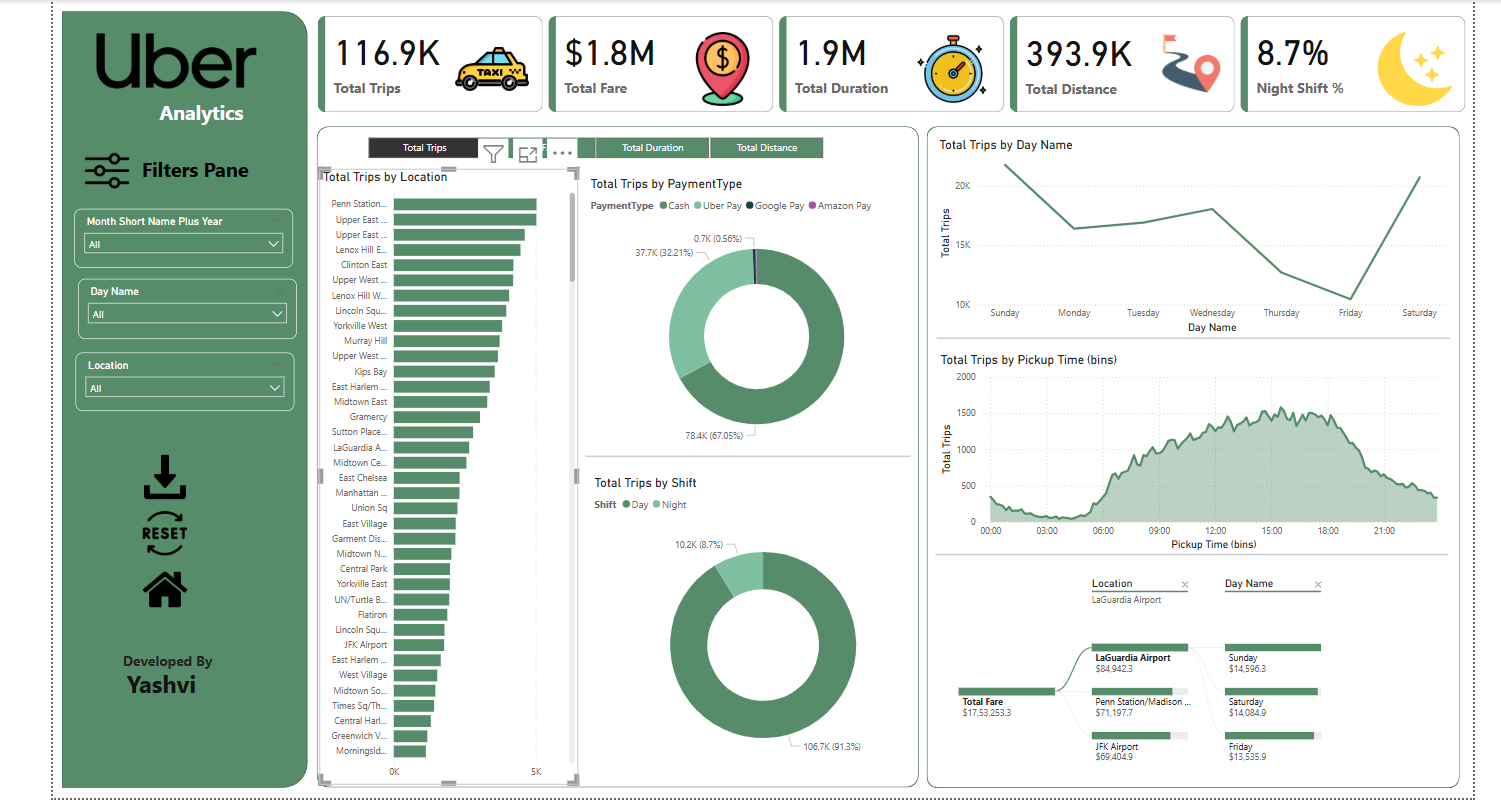

This screenshot's page, from the dashboard's own definition file:
{"tool":"powerbi","page":{"name":"Page 1","canvas":[1920,1080],"ordinal":0},"visuals":[{"type":"shape","box":[719.9,581.6,439.6,71.4],"z":0},{"type":"shape","box":[356.2,171,814.2,894.2],"z":1000},{"type":"shape","box":[11.3,15.8,332.4,1050.1],"z":2000},{"type":"image","box":[49.7,20.3,232.6,125.1],"z":3000},{"type":"textbox","box":[139.1,128.7,169.4,56.5],"z":4000},{"type":"image","box":[28.9,196.5,88,70],"z":5000},{"type":"textbox","box":[114.7,206.4,169.4,56.5],"z":6000},{"type":"slicer","fields":{"Values":["DateTable.Month Short Name Plus Year"]},"box":[29.4,282.3,295.8,80.4],"z":7000},{"type":"slicer","fields":{"Values":["DateTable.Day Name"]},"box":[33,376.2,295.8,81.3],"z":8000},{"type":"slicer","fields":{"Values":["Location Table.Location"]},"box":[30.3,476.1,295.8,79],"z":9000},{"type":"cardVisual","fields":{"Data":["Trip Details.Total Trips","Trip Details.Total Fare","Trip Details.Total Duration","Trip Details.Total Distance","Trip Details.Night Shift %"]},"box":[353.2,16.9,1566.8,140.9],"z":10000},{"type":"clusteredBarChart","fields":{"Y":["Trip Details.Total Trips"],"Category":["Location Table.Location"]},"box":[359.6,227.7,351.3,834.1],"z":11000},{"type":"slicer","fields":{"Values":["Toggel.Toggel"]},"box":[400.5,178.8,665,41.3],"z":12000},{"type":"donutChart","fields":{"Y":["Trip Details.Total Trips"],"Category":["Trip Details.PaymentType"]},"box":[722.5,239,460.3,385.1],"z":13000},{"type":"donutChart","fields":{"Y":["Trip Details.Total Trips"],"Category":["Trip Details.Shift"]},"box":[727,642.5,467.4,411.4],"z":14000},{"type":"shape","box":[1181.3,170.6,720.9,895.1],"z":15000},{"type":"lineChart","fields":{"Y":["Trip Details.Total Trips"],"Category":["DateTable.Day Name"]},"box":[1192.8,186.3,697.5,270],"z":16000},{"type":"areaChart","fields":{"Y":["Trip Details.Total Trips"],"Category":["Trip Details.Pickup Time (bins)"]},"box":[1195.9,476.9,697,273.3],"z":17000},{"type":"decompositionTreeVisual","fields":{"Analyze":["Trip Details.Total Fare"],"ExplainBy":["Location Table.Location","DateTable.Day Name"]},"box":[1194.8,764.8,695.5,270],"z":18000},{"type":"shape","box":[1195.9,421.9,693.3,69.7],"z":19000},{"type":"shape","box":[1194.1,715.4,693.3,69.7],"z":20000},{"type":"image","box":[117.1,762.2,70,70],"z":21000},{"type":"image","box":[117.1,610.8,70,70],"z":22000},{"type":"image","box":[117.1,686.5,70,70],"z":23000},{"type":"textbox","box":[80.6,876.4,147.4,37.3],"z":24000},{"type":"textbox","box":[19.4,897.3,265,63.5],"z":25000}]}

Visuals, with their boxes on the page's 1920x1080 design canvas (x1, y1, x2, y2). These are canvas units, not pixel positions in the 1501x808 screenshot, which may show the page scaled, cropped or inside an application window:
shape: locate(720, 582, 1160, 653)
shape: locate(356, 171, 1170, 1065)
shape: locate(11, 16, 344, 1066)
image: locate(50, 20, 282, 145)
textbox: locate(139, 129, 308, 185)
image: locate(29, 196, 117, 266)
textbox: locate(115, 206, 284, 263)
slicer - DateTable.Month Short Name Plus Year: locate(29, 282, 325, 363)
slicer - DateTable.Day Name: locate(33, 376, 329, 458)
slicer - Location Table.Location: locate(30, 476, 326, 555)
cardVisual - Trip Details.Total Trips x Trip Details.Total Fare: locate(353, 17, 1920, 158)
clusteredBarChart - Trip Details.Total Trips x Location Table.Location: locate(360, 228, 711, 1062)
slicer - Toggel.Toggel: locate(400, 179, 1066, 220)
donutChart - Trip Details.Total Trips x Trip Details.PaymentType: locate(722, 239, 1183, 624)
donutChart - Trip Details.Total Trips x Trip Details.Shift: locate(727, 642, 1194, 1054)
shape: locate(1181, 171, 1902, 1066)
lineChart - Trip Details.Total Trips x DateTable.Day Name: locate(1193, 186, 1890, 456)
areaChart - Trip Details.Total Trips x Trip Details.Pickup Time (bins): locate(1196, 477, 1893, 750)
decompositionTreeVisual - Trip Details.Total Fare x Location Table.Location: locate(1195, 765, 1890, 1035)
shape: locate(1196, 422, 1889, 492)
shape: locate(1194, 715, 1887, 785)
image: locate(117, 762, 187, 832)
image: locate(117, 611, 187, 681)
image: locate(117, 686, 187, 756)
textbox: locate(81, 876, 228, 914)
textbox: locate(19, 897, 284, 961)
